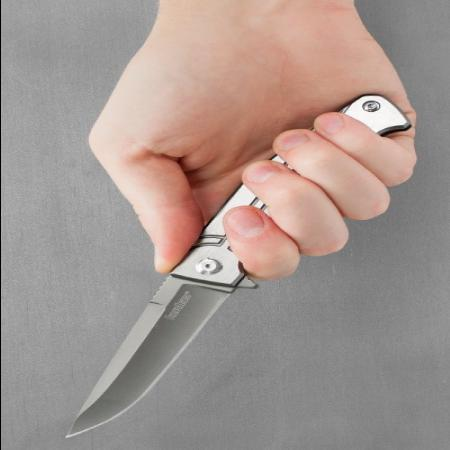long weapon: (57, 85, 418, 444)
